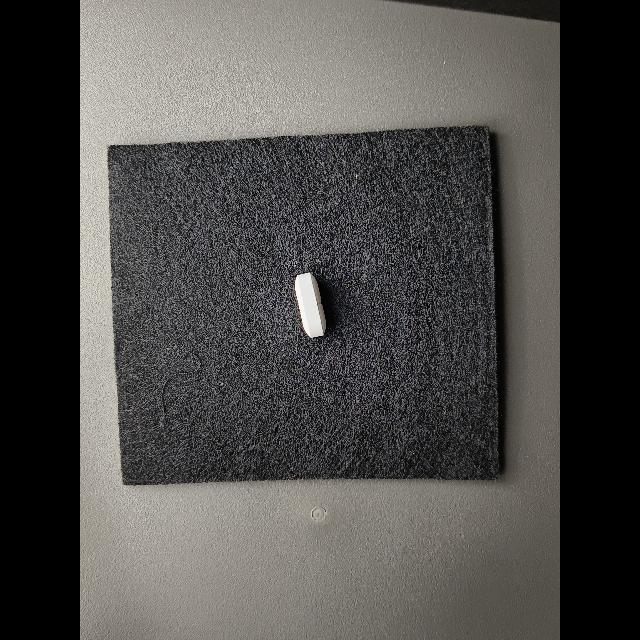Intact Pill: (294, 272, 326, 338)
